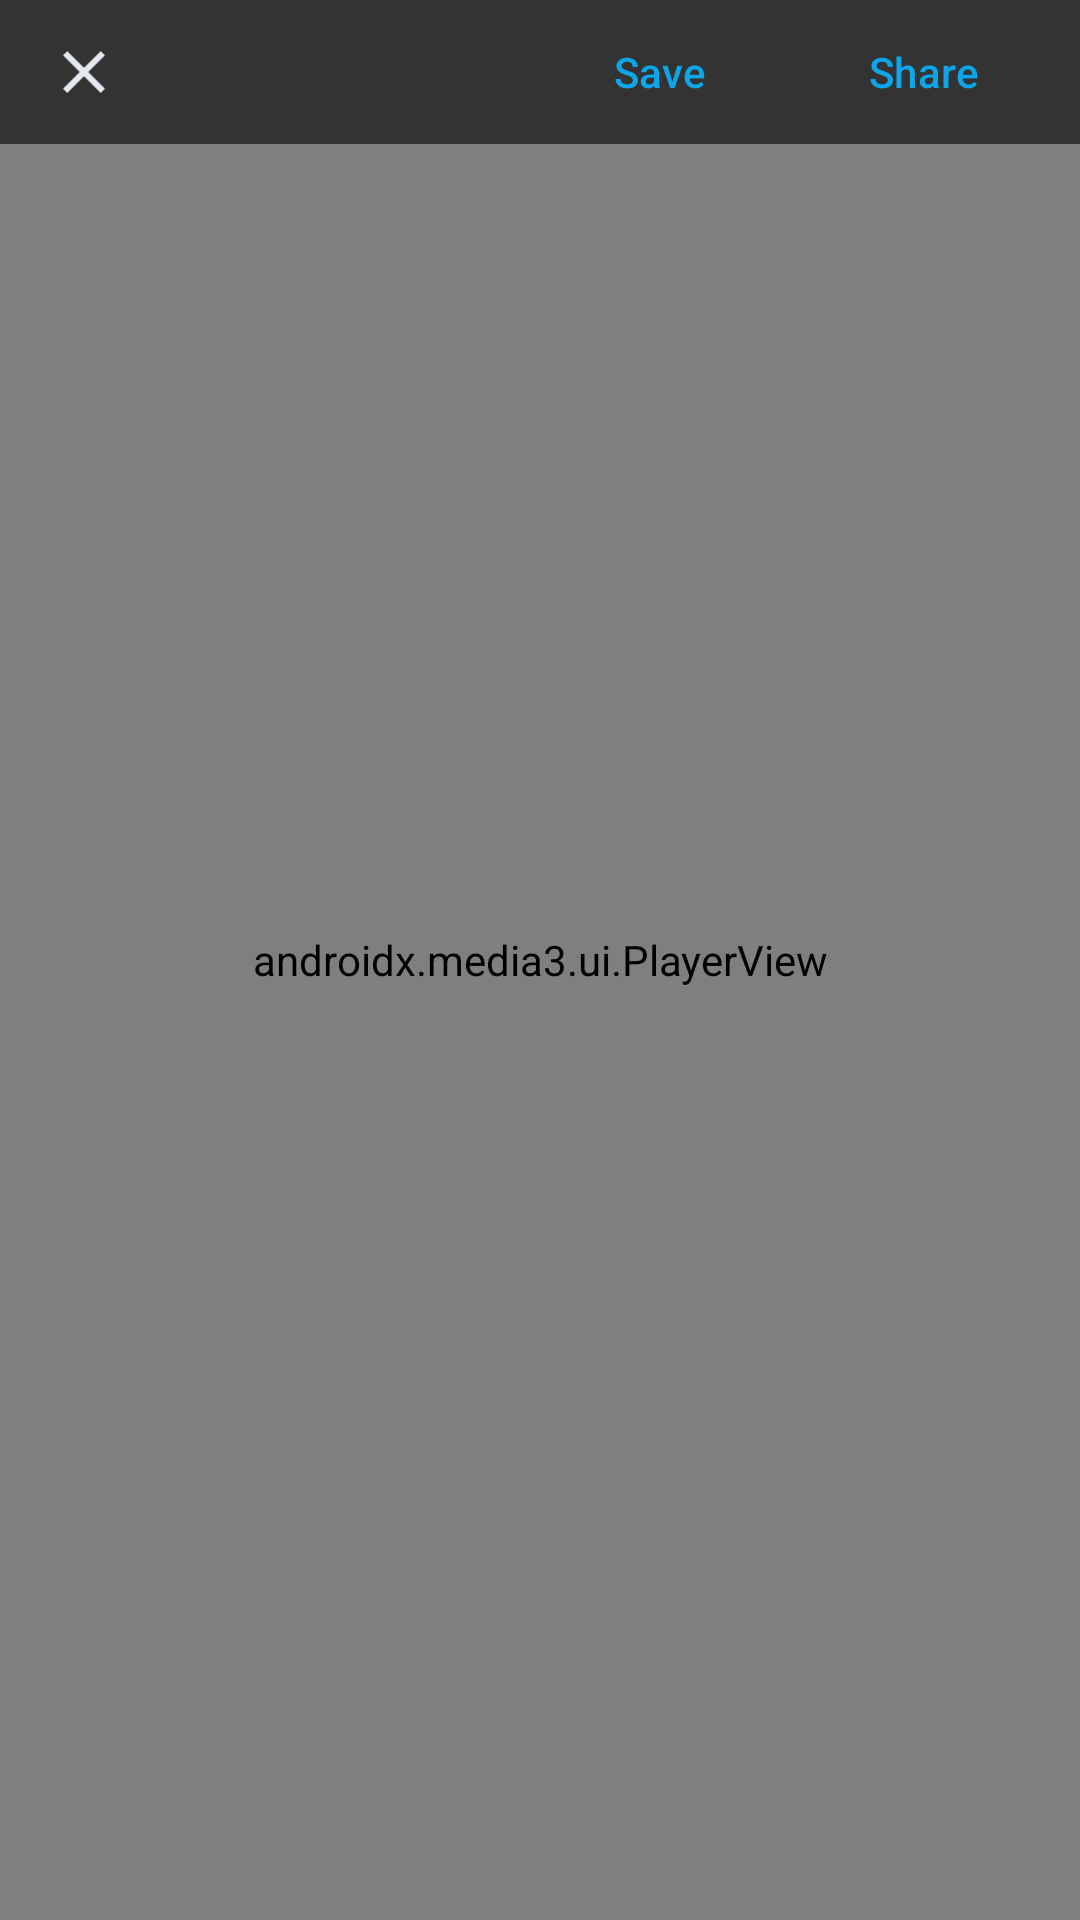

Icons on this 1080w x 1920h Android screen, each with its box as (x1, y1, x2, y2):
Close: (63, 51, 105, 93)
